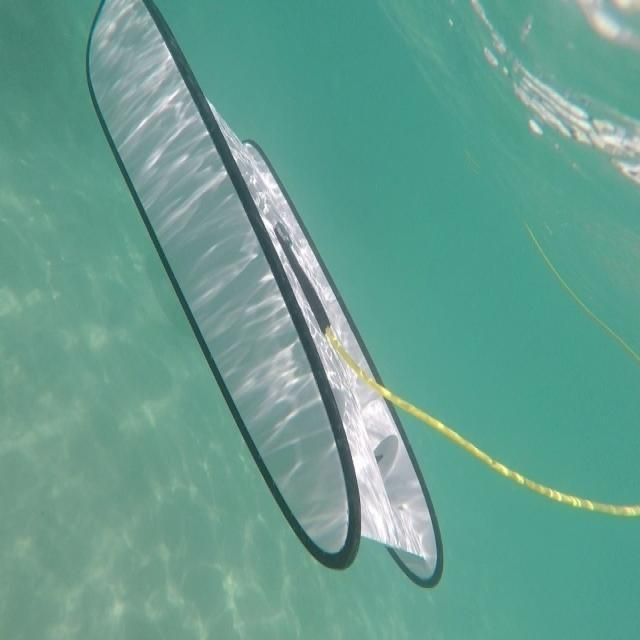robots: (85, 0, 639, 590)
